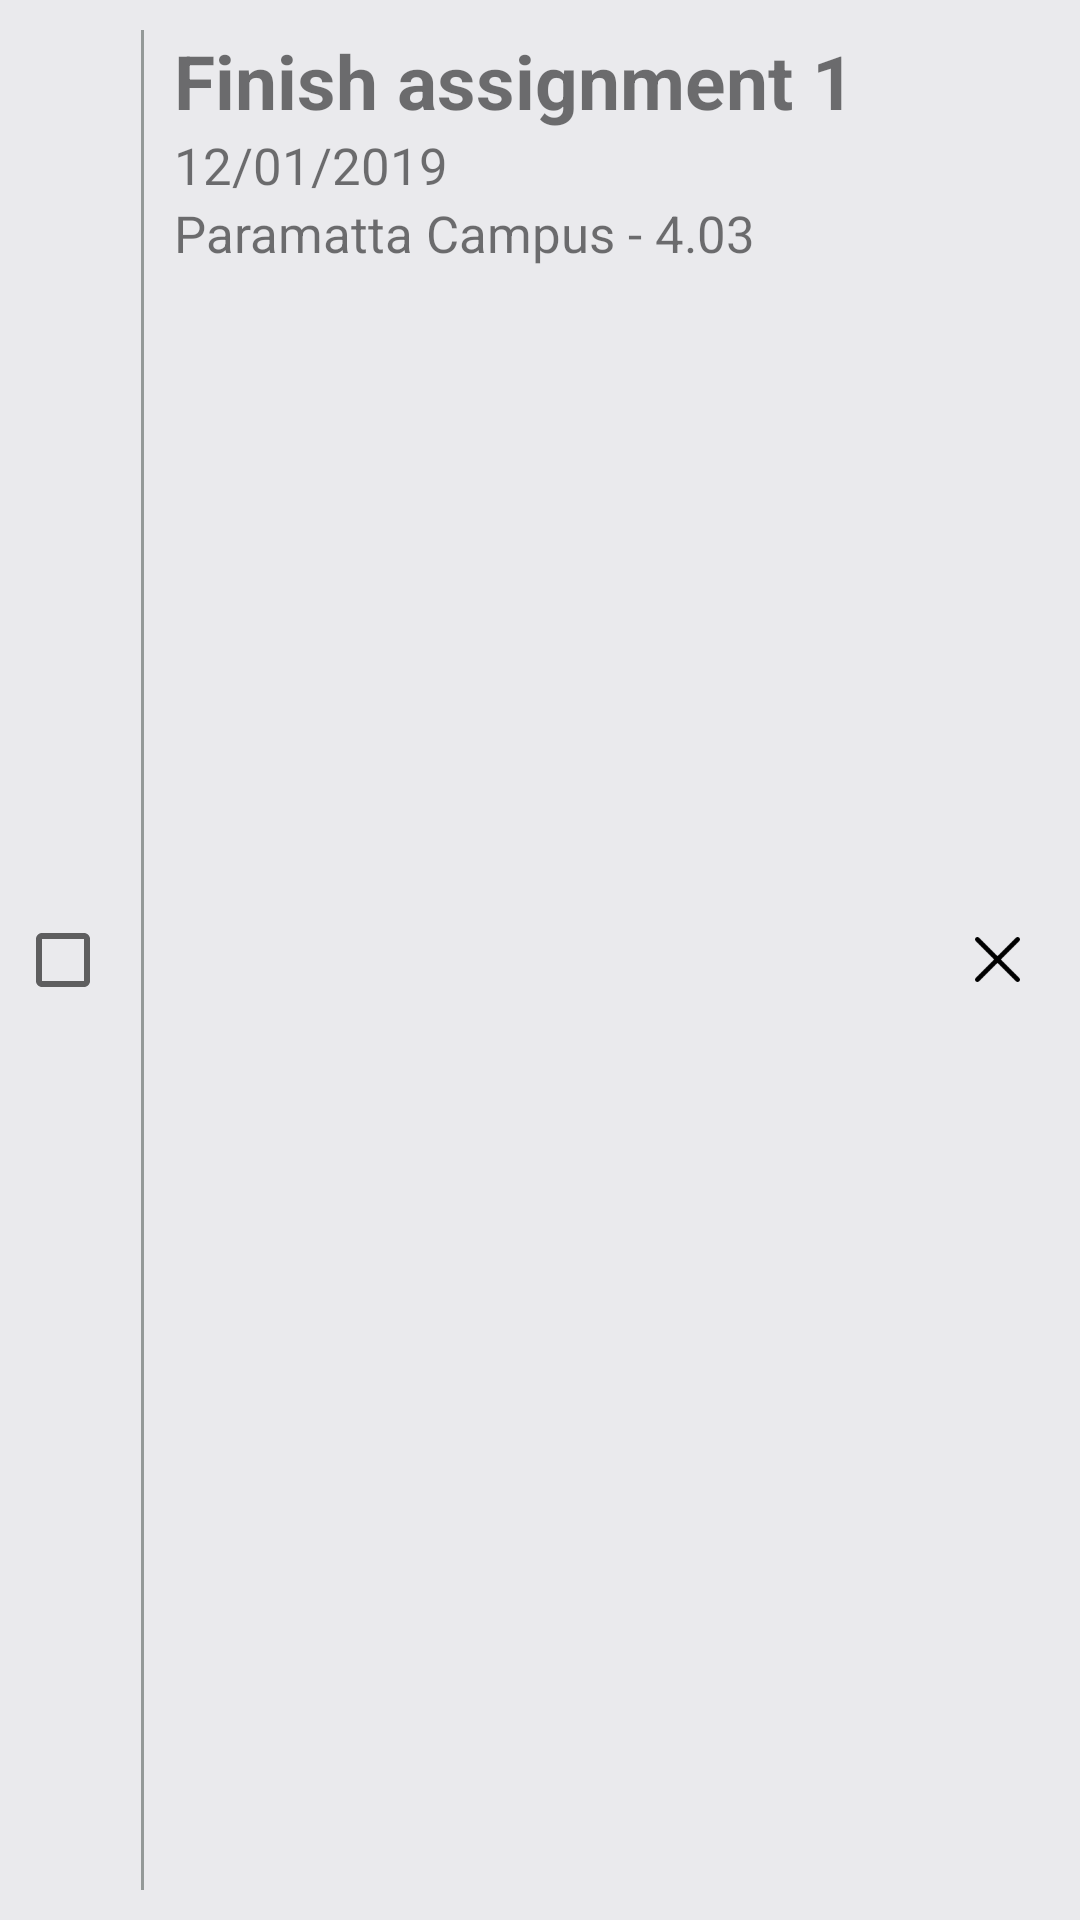

Screen size 1080*1920. Icon name, then its box in pixels as (x1, y1, x2, y2):
cancel: (975, 937, 1020, 982)
